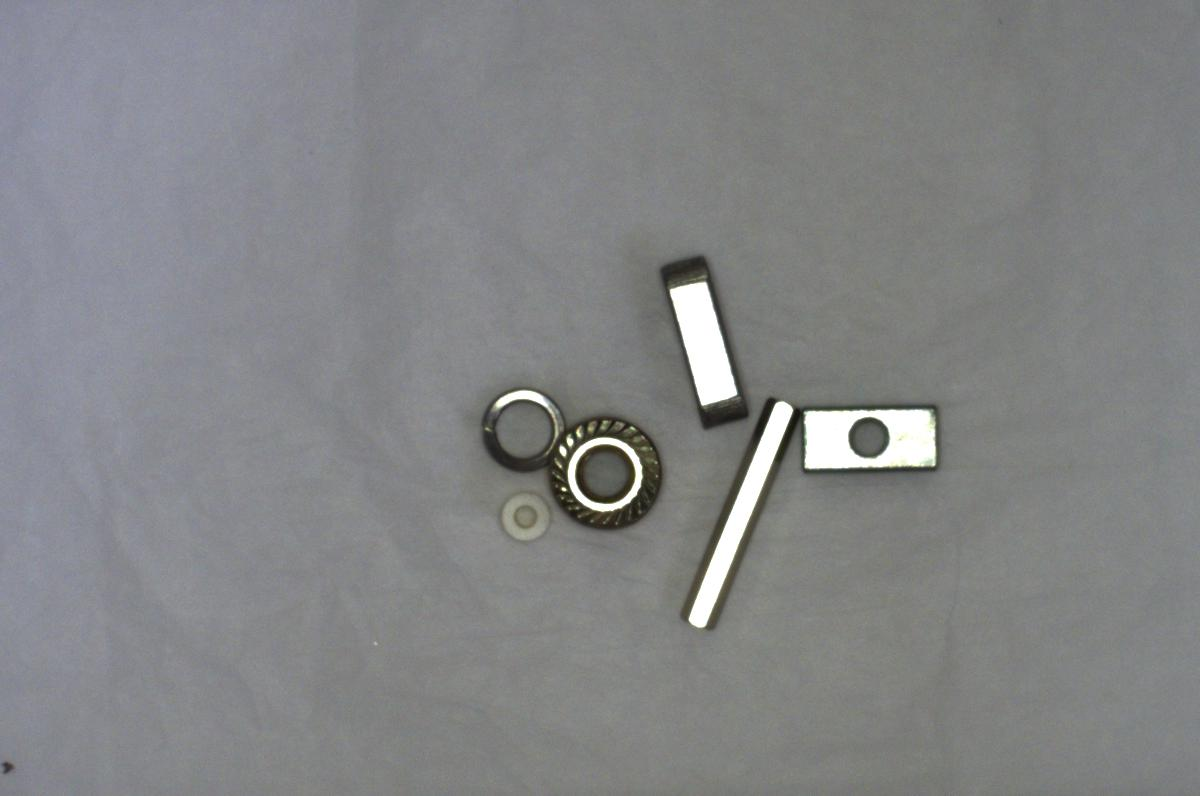Flange nut: (550, 410, 672, 535)
Keybar: (659, 245, 754, 435)
Plastic cushion pillar: (498, 488, 554, 543)
Rectangular nut: (792, 398, 940, 476)
Spring washer: (675, 386, 797, 633), (473, 376, 566, 474)
